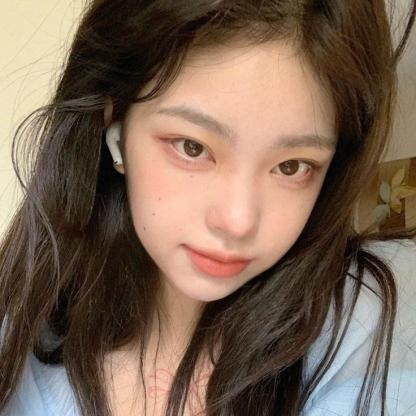person: (74, 0, 376, 301)
